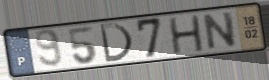5: (66, 25, 99, 66)
7: (134, 16, 165, 61)
9: (34, 28, 65, 71)
D: (97, 21, 135, 64)
H: (167, 13, 207, 56)
N: (203, 10, 239, 52)
